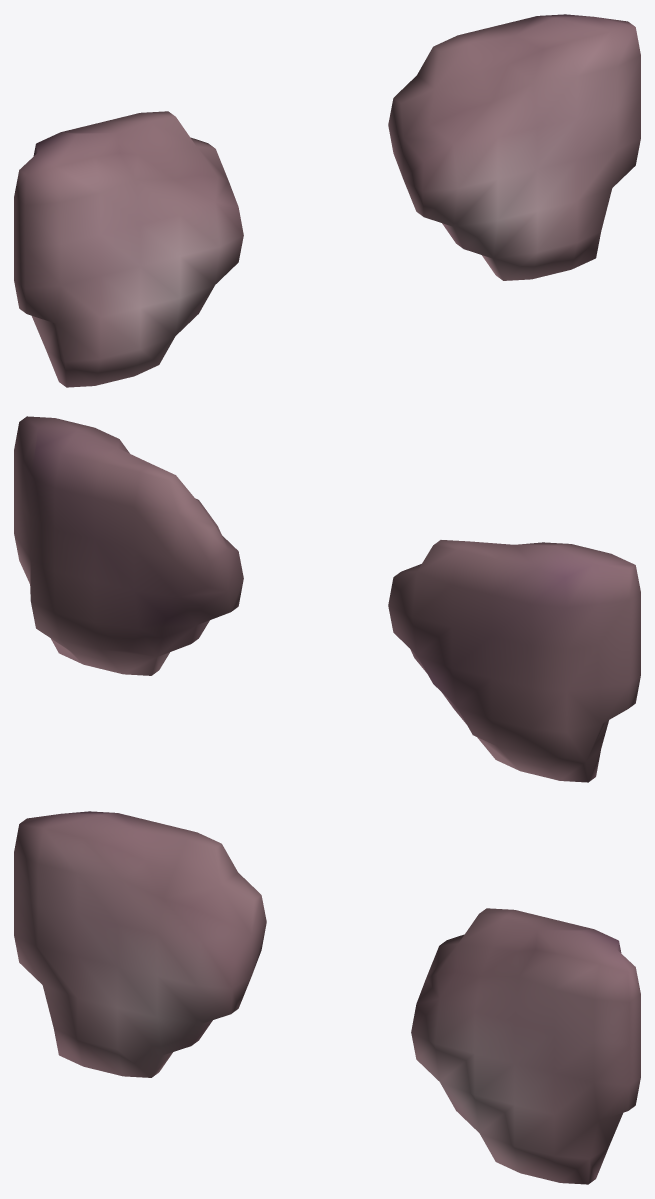
The picture shows the model from 3 angles, top to bottom: view 1: azimuth 30°, elevation 25°; view 2: azimuth 150°, elevation 25°; view 3: azimuth 330°, elevation 25°; orthographic projection.
Size of the model in its own units: 0.775 by 0.2875 by 0.1.
